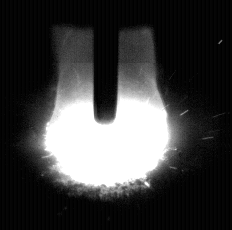arame: (95, 0, 117, 125)
poca: (45, 0, 171, 230)
